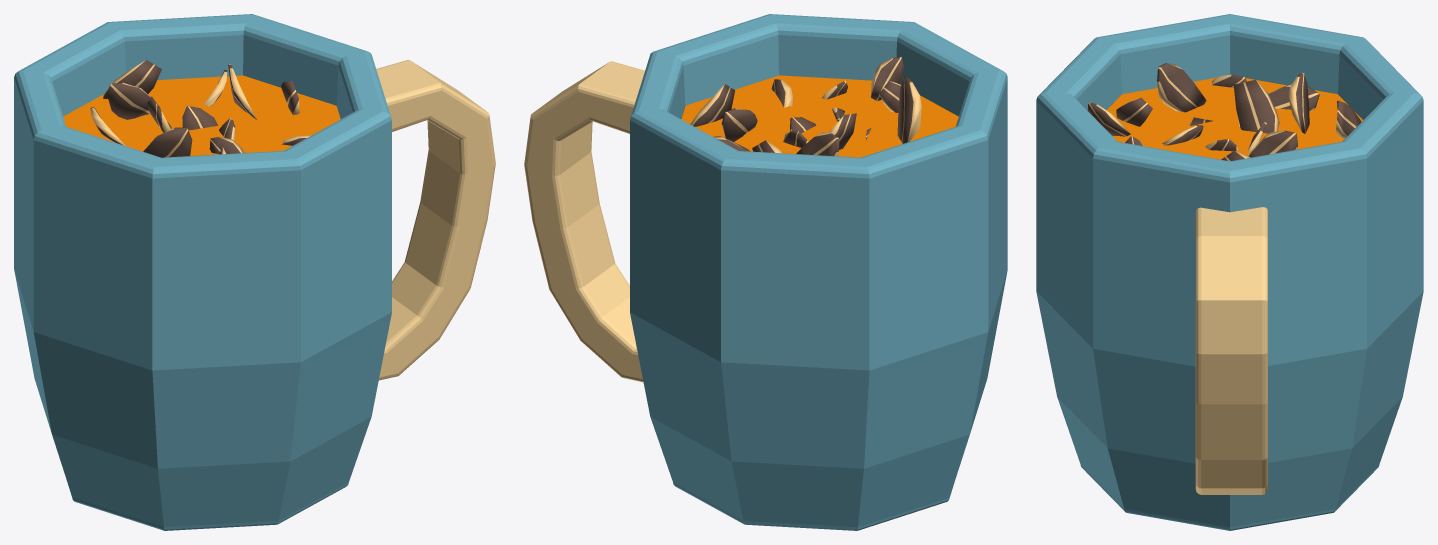
The model's file is Cup (filled) Sunflower.fbx.
3 views of the same model, side by side, from view 1: azimuth 30°, elevation 25°; view 2: azimuth 150°, elevation 25°; view 3: azimuth 270°, elevation 25° (orthographic).
Visible parts, largest first — view 1: CupFilledSunflower; view 2: CupFilledSunflower; view 3: CupFilledSunflower.
Boxes of the visible parts, x1=… form: CupFilledSunflower: x1=14, y1=14, x2=495, y2=530; CupFilledSunflower: x1=524, y1=14, x2=1007, y2=530; CupFilledSunflower: x1=1036, y1=14, x2=1423, y2=530.
Bounding box in the file's own units: 39.57 × 32.25 × 30.
